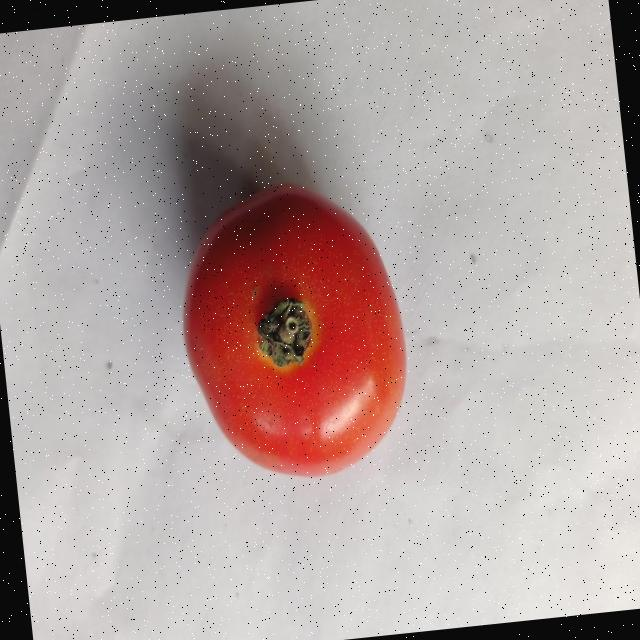Ripe: (164, 172, 418, 494)
